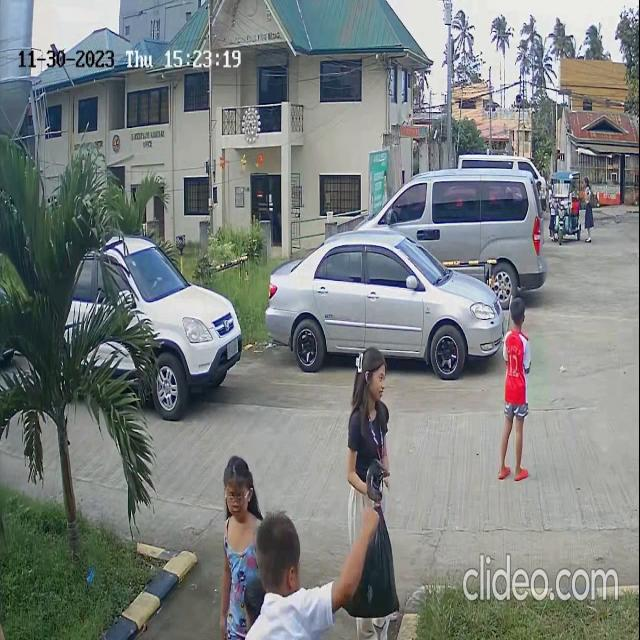garbage: (345, 513, 401, 608)
person: (346, 349, 385, 537), (217, 463, 260, 628), (502, 301, 531, 484)
